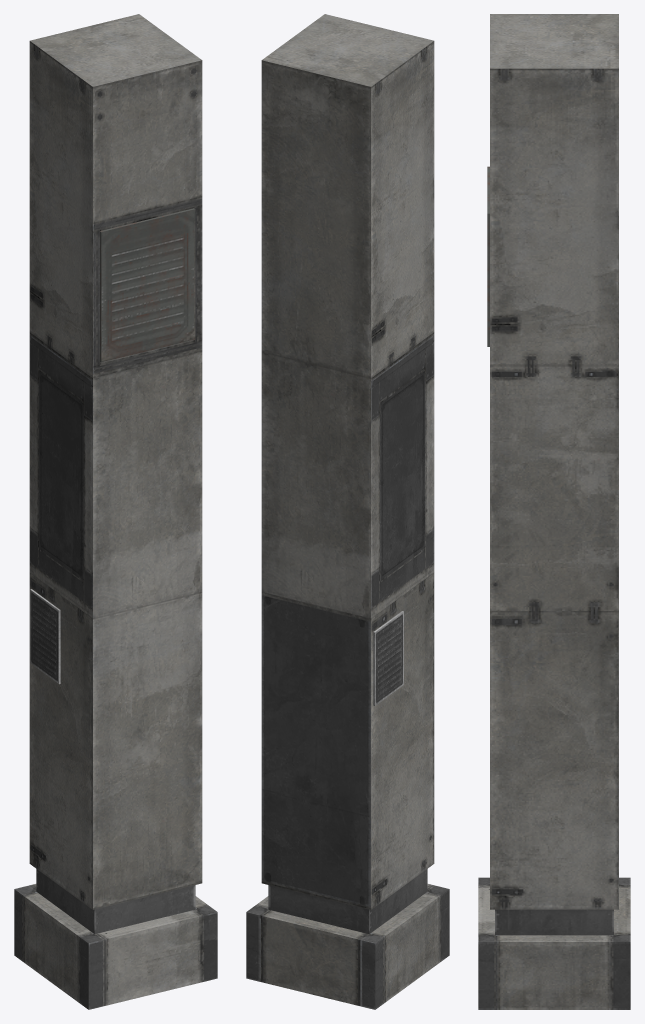
Rendered from CP_Column_Concrete_B_04.fbx.
3 renders of one model, left to right at view 1: azimuth 30°, elevation 25°; view 2: azimuth 150°, elevation 25°; view 3: azimuth 270°, elevation 25°, orthographic. The views are drawn at different scales.
Visible parts, largest first — view 1: CP_Column_Concrete_B_04; view 2: CP_Column_Concrete_B_04; view 3: CP_Column_Concrete_B_04.
Boxes of the visible parts, <box> form: CP_Column_Concrete_B_04: <box>14,14,217,1009</box>; CP_Column_Concrete_B_04: <box>246,14,449,1009</box>; CP_Column_Concrete_B_04: <box>478,14,630,1009</box>.
Size of the model in its own units: 58.9 by 400 by 58.9.
